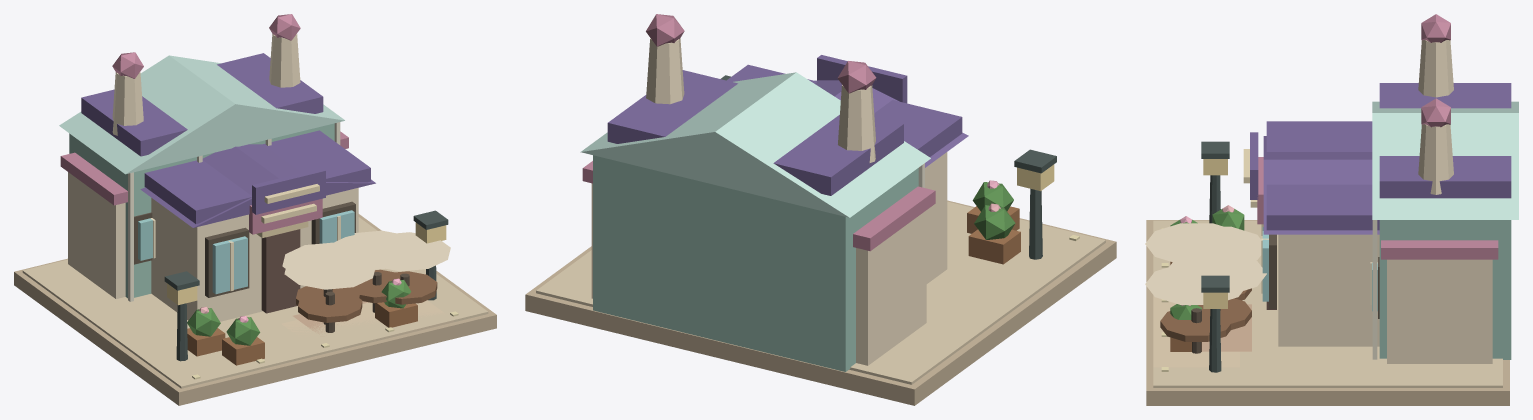
File: cafe-lv3.obj
3 views of the same model, side by side, from view 1: azimuth 30°, elevation 25°; view 2: azimuth 150°, elevation 25°; view 3: azimuth 270°, elevation 25° (orthographic). The views are drawn at different scales.
Parts seen in each view (by area): view 1: cafe_4, cafe_3, cafe_1, cafe_23, cafe_0, cafe_16, cafe_11, cafe_14, cafe_22, cafe_9, cafe_5, cafe_17 (+9 smaller); view 2: cafe_22, cafe_23, cafe_1, cafe_3, cafe_4, cafe_0, cafe_11, cafe_17, cafe_18, cafe_26, cafe_27; view 3: cafe_3, cafe_4, cafe_1, cafe_23, cafe_0, cafe_16, cafe_22, cafe_11, cafe_26, cafe_14, cafe_25, cafe_18 (+5 smaller).
Part boxes in pixels (<box>): cafe_4: <box>81,53,375,227</box>; cafe_3: <box>68,34,358,321</box>; cafe_1: <box>22,217,488,388</box>; cafe_23: <box>59,55,344,174</box>; cafe_0: <box>14,214,496,405</box>; cafe_16: <box>282,230,450,289</box>; cafe_11: <box>60,14,348,234</box>; cafe_14: <box>296,269,437,322</box>; cafe_22: <box>69,123,334,298</box>; cafe_9: <box>212,210,354,294</box>; cafe_5: <box>261,229,300,313</box>; cafe_17: <box>187,302,417,365</box>; cafe_22: <box>593,155,918,371</box>; cafe_23: <box>580,72,930,217</box>; cafe_1: <box>536,201,1105,384</box>; cafe_3: <box>591,38,947,365</box>; cafe_4: <box>607,55,968,195</box>; cafe_0: <box>525,200,1116,405</box>; cafe_11: <box>582,14,935,251</box>; cafe_17: <box>967,206,1020,264</box>; cafe_18: <box>972,182,1015,239</box>; cafe_26: <box>721,75,1056,259</box>; cafe_27: <box>1017,164,1054,191</box>; cafe_3: <box>1278,40,1492,363</box>; cafe_4: <box>1250,83,1511,234</box>; cafe_1: <box>1153,220,1502,387</box>; cafe_23: <box>1372,101,1518,219</box>; cafe_0: <box>1146,220,1509,405</box>; cafe_16: <box>1145,223,1266,304</box>; cafe_22: <box>1379,220,1511,359</box>; cafe_11: <box>1257,14,1498,259</box>; cafe_26: <box>1201,141,1229,372</box>; cafe_14: <box>1160,288,1251,341</box>; cafe_25: <box>1153,295,1239,367</box>; cafe_18: <box>1170,209,1244,319</box>.
Bounding box in the file's own units: 3.45 × 2.45 × 3.18.
